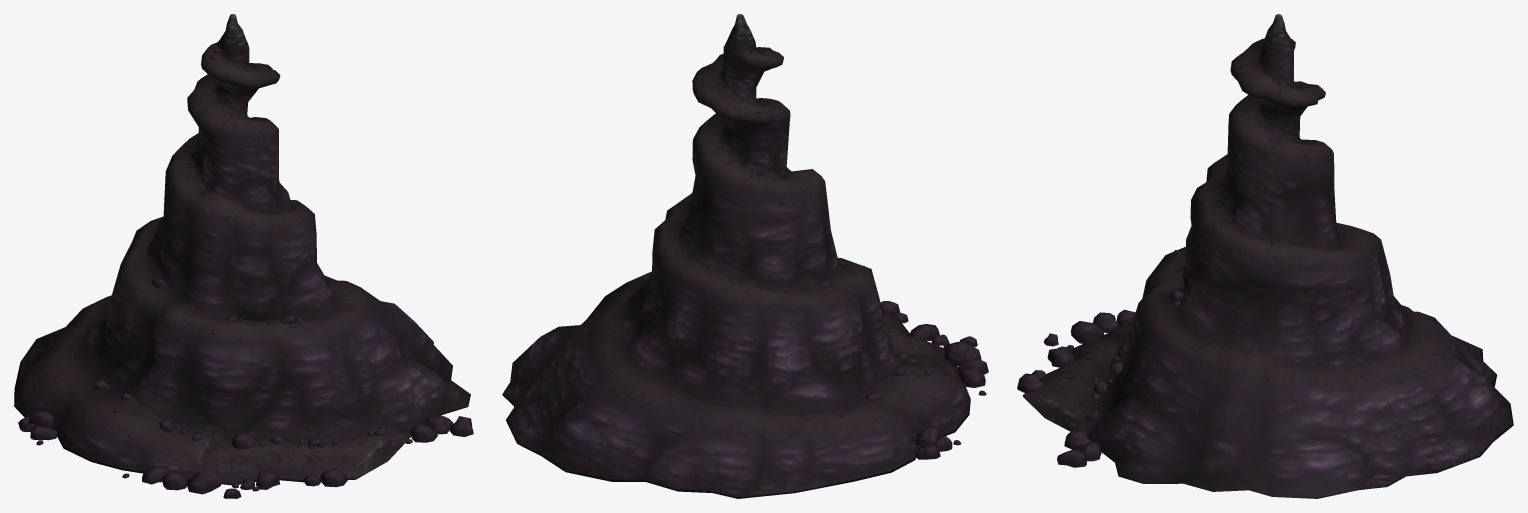
File: cave_entry_01.fbx
3 renders of one model, left to right at view 1: azimuth 30°, elevation 25°; view 2: azimuth 150°, elevation 25°; view 3: azimuth 270°, elevation 25°, orthographic. The views are drawn at different scales.
Visible parts, largest first — view 1: cave_entry_01-0; view 2: cave_entry_01-0; view 3: cave_entry_01-0.
Part boxes in pixels (bbox=[...]): cave_entry_01-0: bbox=[14, 14, 473, 498]; cave_entry_01-0: bbox=[502, 14, 988, 498]; cave_entry_01-0: bbox=[1017, 14, 1513, 498].
Bounding box in the file's own units: 16.68 × 14.67 × 17.17.
